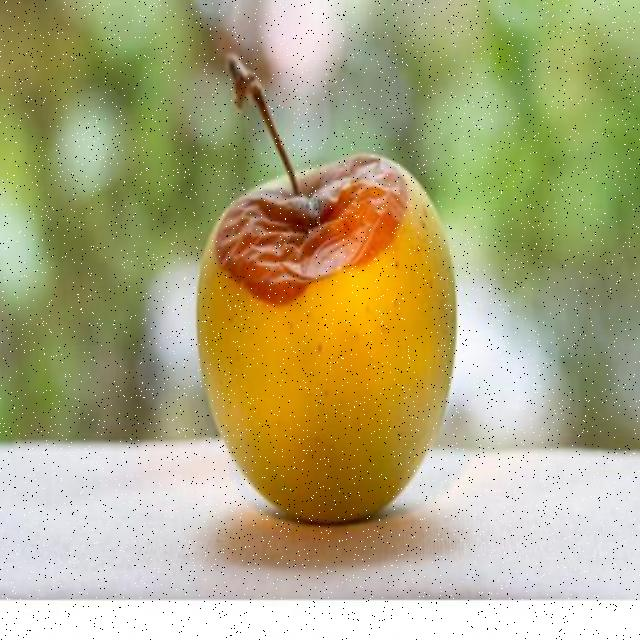ROT: (188, 128, 482, 538)
